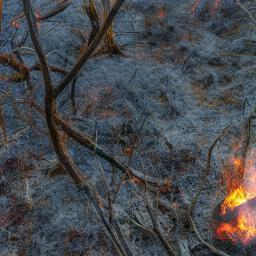Small fire: (212, 137, 256, 234)
